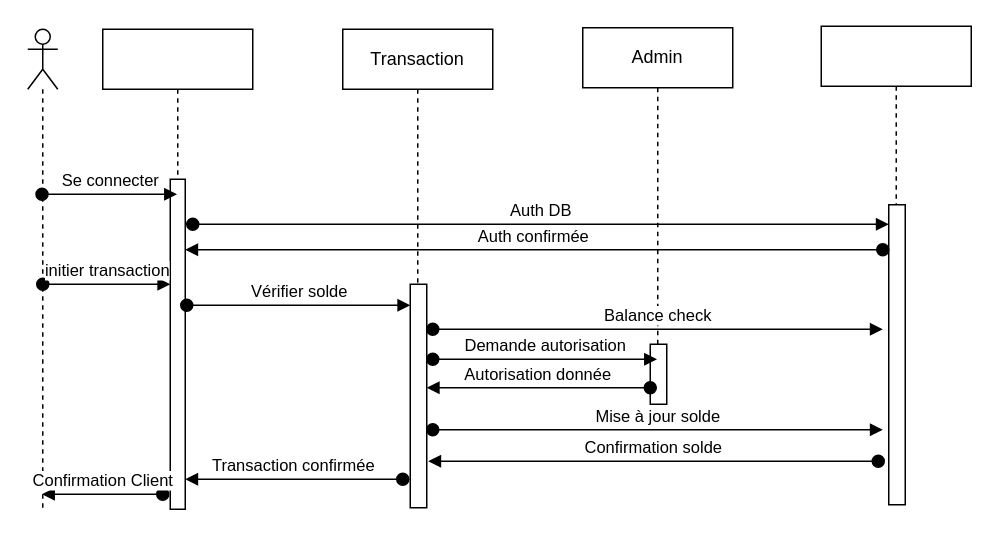
The diagram is 998 pixels wide and 537 high, and some of its shapes have lost their labels. The box of each missing label's shape, as (x1, y1, x2, y2) in pixels:
App Front: (101, 28, 253, 194)
Database: (820, 25, 971, 206)
